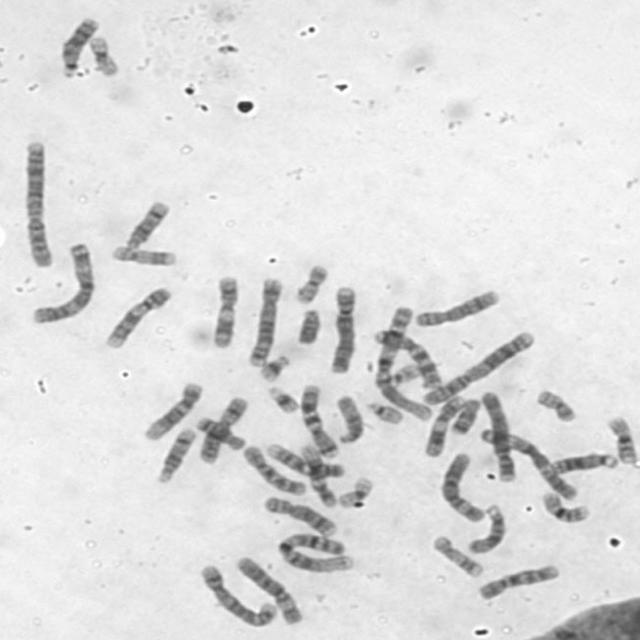A1: (372, 304, 435, 421), (278, 530, 358, 574)
A2: (420, 329, 536, 406), (22, 138, 58, 269)
A3: (478, 427, 581, 502), (28, 241, 97, 326)
B4: (480, 390, 518, 483), (327, 283, 358, 375)
B5: (200, 562, 278, 628), (248, 276, 284, 368)
C10: (238, 442, 308, 497), (475, 562, 560, 603)
C11: (424, 394, 466, 458), (212, 274, 240, 351)
C12: (141, 381, 204, 442), (298, 443, 342, 508)
C6: (234, 552, 306, 626), (440, 451, 486, 524)
C7: (368, 328, 444, 390), (300, 381, 340, 458)
C8: (414, 290, 502, 330), (264, 494, 341, 536)
C9: (102, 286, 171, 351), (264, 438, 347, 480)
D13: (58, 13, 102, 80), (548, 452, 618, 476)
D14: (154, 426, 198, 486), (124, 200, 172, 251)
D15: (464, 502, 507, 554), (332, 395, 366, 446)
E16: (541, 490, 594, 526), (607, 414, 637, 464)
E17: (431, 535, 485, 578), (110, 244, 178, 268)
E18: (191, 414, 246, 451), (450, 395, 482, 435)
F19: (336, 475, 374, 510), (88, 38, 121, 76)
F20: (534, 387, 578, 422), (294, 262, 328, 306)
G21: (266, 384, 300, 414), (256, 356, 290, 382)
G22: (383, 361, 424, 389), (364, 399, 404, 426)
X: (196, 394, 248, 466)
Y: (296, 309, 323, 346)
